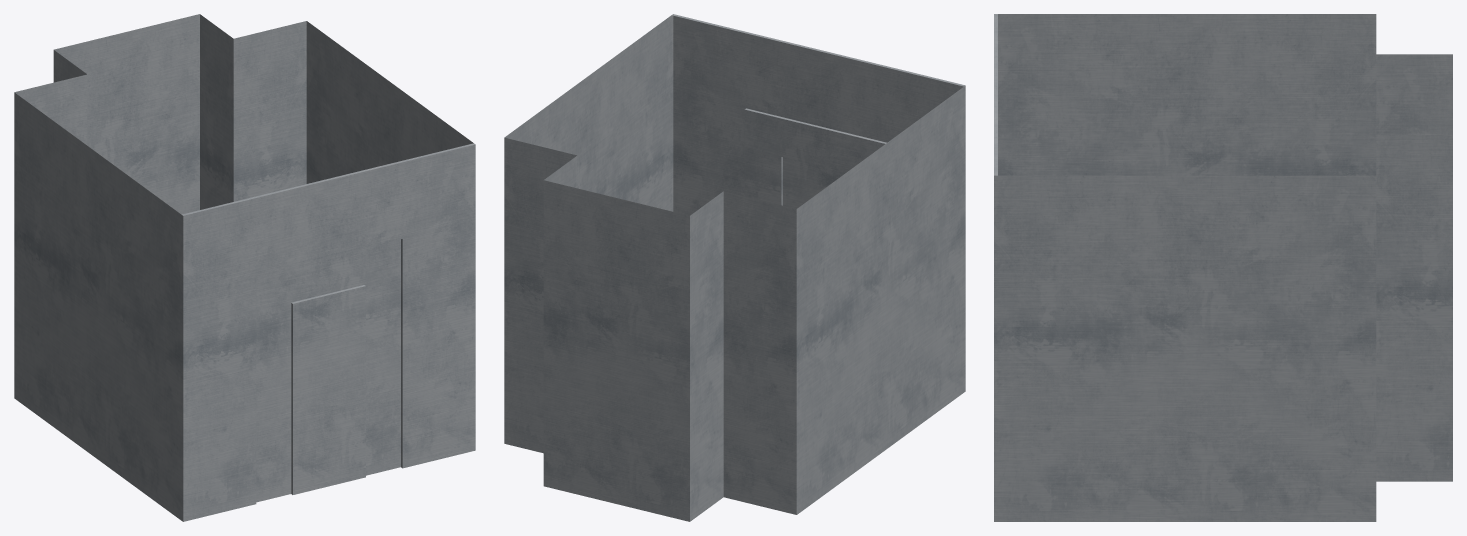
File: Console-Type-1-Body-Top.obj
3 views of the same model, side by side, from view 1: azimuth 30°, elevation 25°; view 2: azimuth 150°, elevation 25°; view 3: azimuth 270°, elevation 25° (orthographic). The views are drawn at different scales.
Visible parts, largest first — view 1: Console-Type-1-Body-Top; view 2: Console-Type-1-Body-Top; view 3: Console-Type-1-Body-Top.
Part boxes in pixels (box(x1,y1,x2,y2)): Console-Type-1-Body-Top: box(14, 14, 475, 521); Console-Type-1-Body-Top: box(504, 14, 965, 521); Console-Type-1-Body-Top: box(994, 14, 1452, 521).
Bounding box in the file's own units: 1 × 1 × 1.2.
